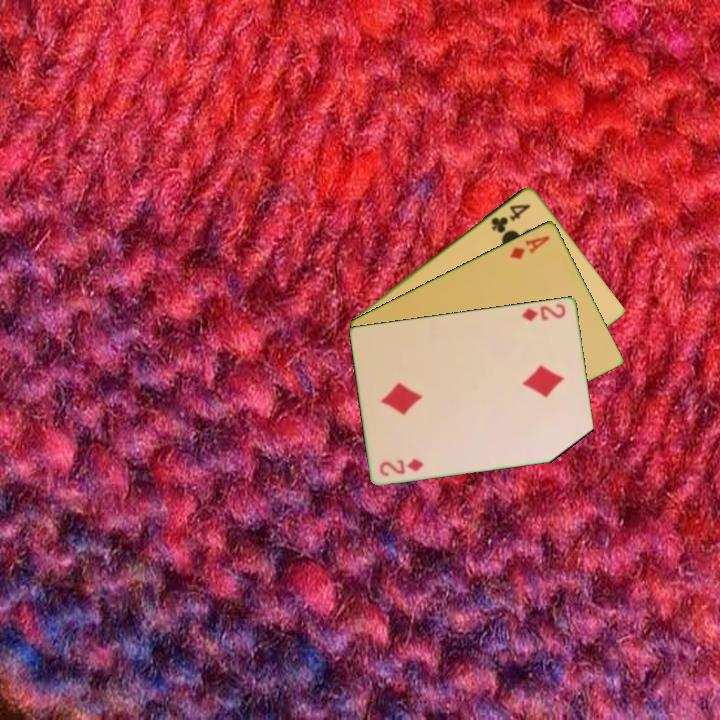2d: (376, 455, 426, 479), (519, 300, 569, 323)
4c: (487, 200, 534, 236)
Ad: (506, 231, 553, 262)
